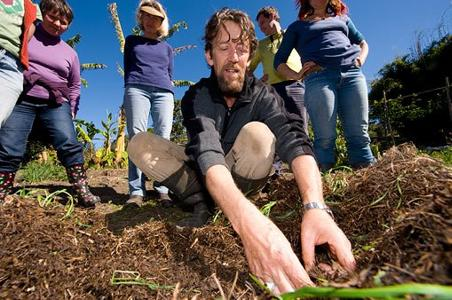person: (128, 8, 358, 300)
